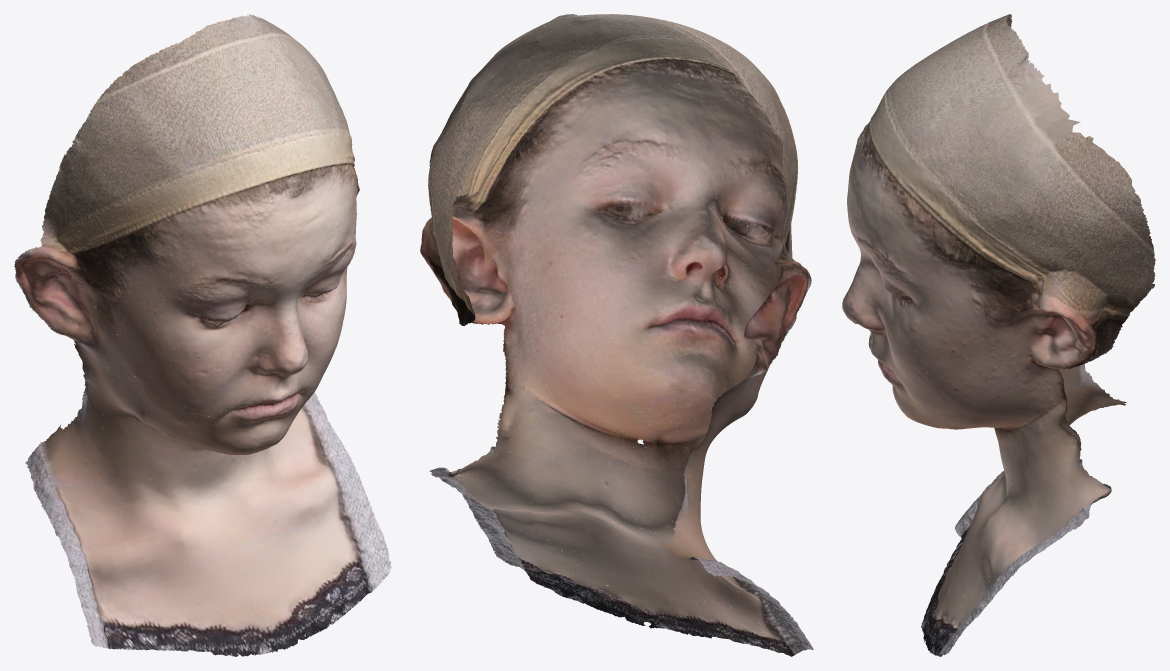
File: 头像_带标注_闭眼头套扫描03_opt.glb
The picture shows the model from 3 angles, left to right: view 1: azimuth 30°, elevation 25°; view 2: azimuth 150°, elevation 25°; view 3: azimuth 270°, elevation 25°; orthographic projection. The views are drawn at different scales.
Parts seen in each view (by area): view 1: defaultMat, defaultMat_2, defaultMat_4, defaultMat_3, defaultMat_1, defaultMat_5; view 2: defaultMat, defaultMat_2, defaultMat_4, defaultMat_1, defaultMat_3, defaultMat_5; view 3: defaultMat, defaultMat_2, defaultMat_4, defaultMat_1, defaultMat_3, defaultMat_5.
Boxes of the visible parts, bbox=[...] form: defaultMat: bbox=[14, 14, 391, 656]; defaultMat_2: bbox=[57, 40, 389, 654]; defaultMat_4: bbox=[22, 38, 378, 650]; defaultMat_3: bbox=[61, 43, 388, 649]; defaultMat_1: bbox=[15, 16, 391, 654]; defaultMat_5: bbox=[23, 39, 374, 650]; defaultMat: bbox=[423, 14, 813, 656]; defaultMat_2: bbox=[430, 14, 798, 643]; defaultMat_4: bbox=[420, 15, 808, 650]; defaultMat_1: bbox=[429, 14, 812, 650]; defaultMat_3: bbox=[430, 15, 793, 631]; defaultMat_5: bbox=[420, 37, 807, 647]; defaultMat: bbox=[893, 14, 1154, 656]; defaultMat_2: bbox=[842, 28, 1148, 645]; defaultMat_4: bbox=[842, 15, 1155, 651]; defaultMat_1: bbox=[893, 14, 1152, 653]; defaultMat_3: bbox=[845, 33, 1147, 642]; defaultMat_5: bbox=[843, 36, 1154, 631].
Bounding box in the file's own units: 0.1761 × 0.3 × 0.1442.
1 material, 1 textured.
